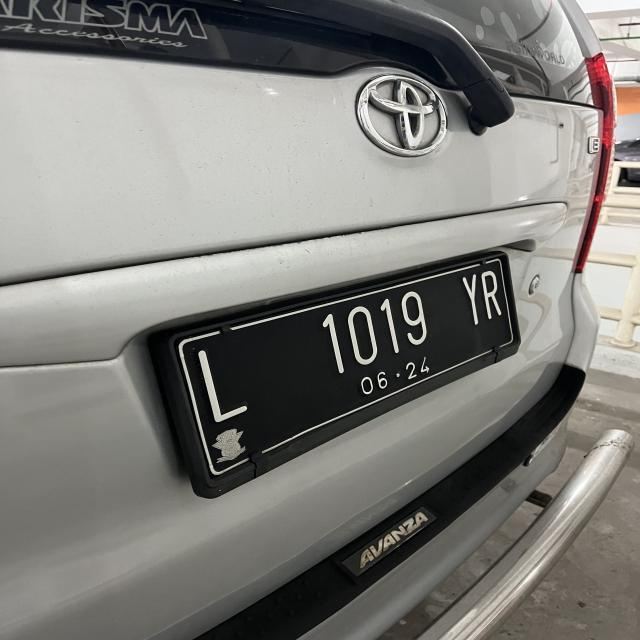1: (316, 314, 344, 377), (382, 298, 399, 358)
9: (401, 290, 429, 346)
L: (192, 350, 255, 420)
R: (480, 268, 503, 319)
Y: (464, 273, 478, 326)
